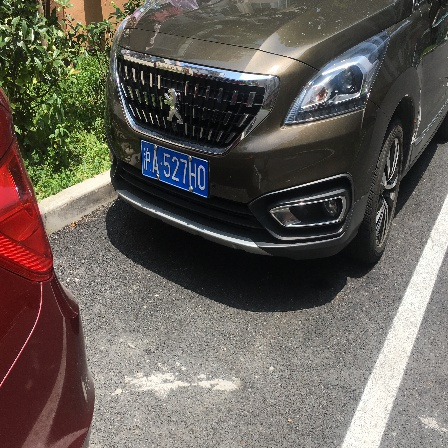plate: (134, 136, 217, 203)
